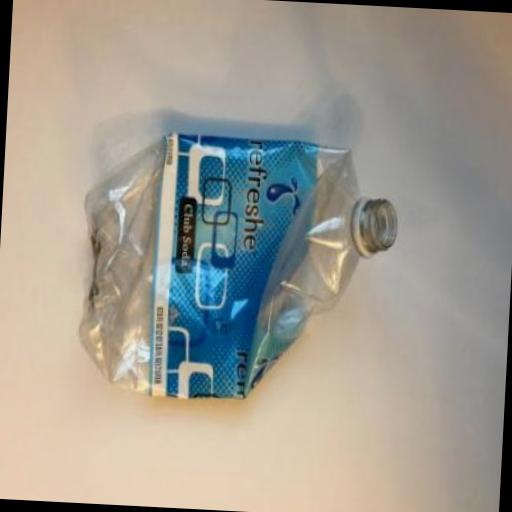plastic: (74, 125, 402, 407), (146, 131, 318, 398)
